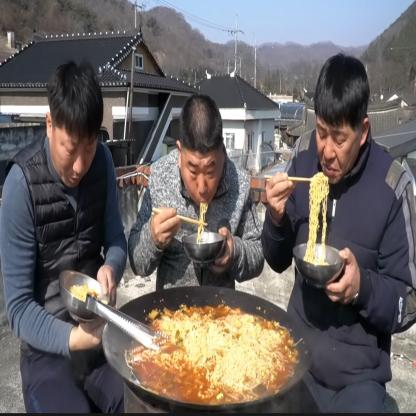streamer: (262, 52, 416, 412), (0, 59, 128, 416), (128, 93, 264, 288)
